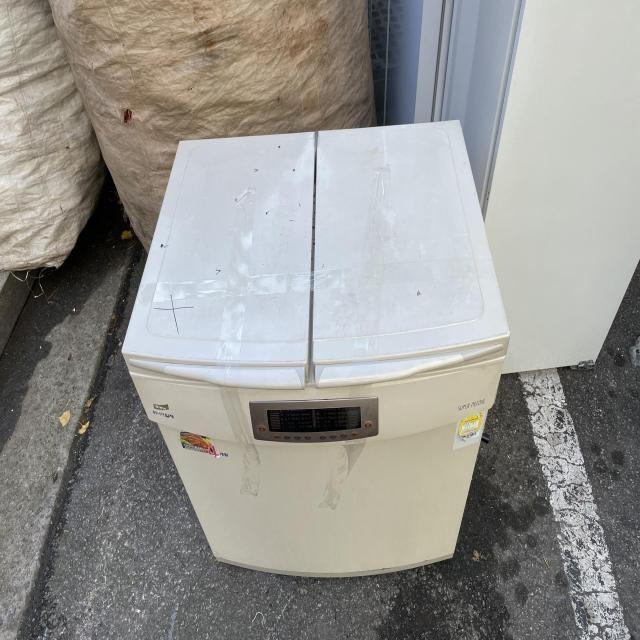refrigerator: (121, 118, 512, 581)
